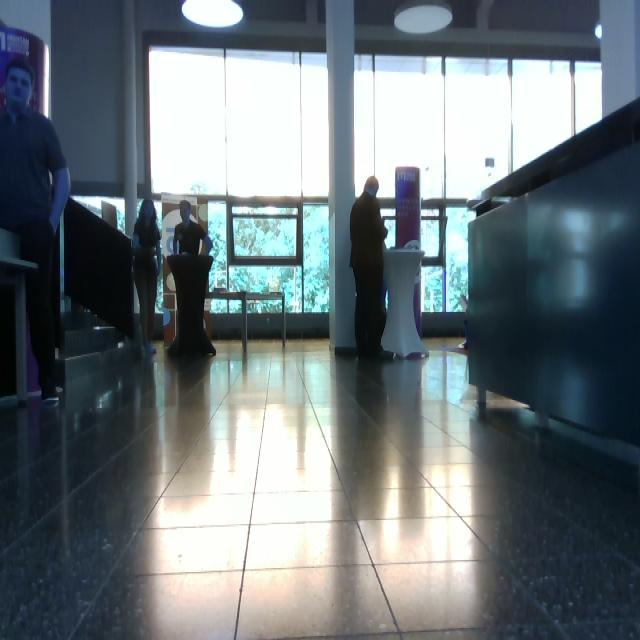light bulb: (395, 1, 454, 34), (182, 1, 245, 27), (595, 23, 604, 40), (486, 159, 494, 169)
person: (1, 59, 71, 404), (351, 176, 395, 360), (169, 203, 217, 357), (135, 199, 162, 355)
pillar: (328, 1, 356, 355), (396, 168, 421, 249), (415, 283, 422, 337)
table: (1, 259, 37, 404), (382, 251, 430, 357), (206, 293, 286, 352)
tiled floor: (1, 339, 640, 639)
window: (356, 59, 602, 312), (150, 48, 330, 314), (152, 48, 327, 313)
